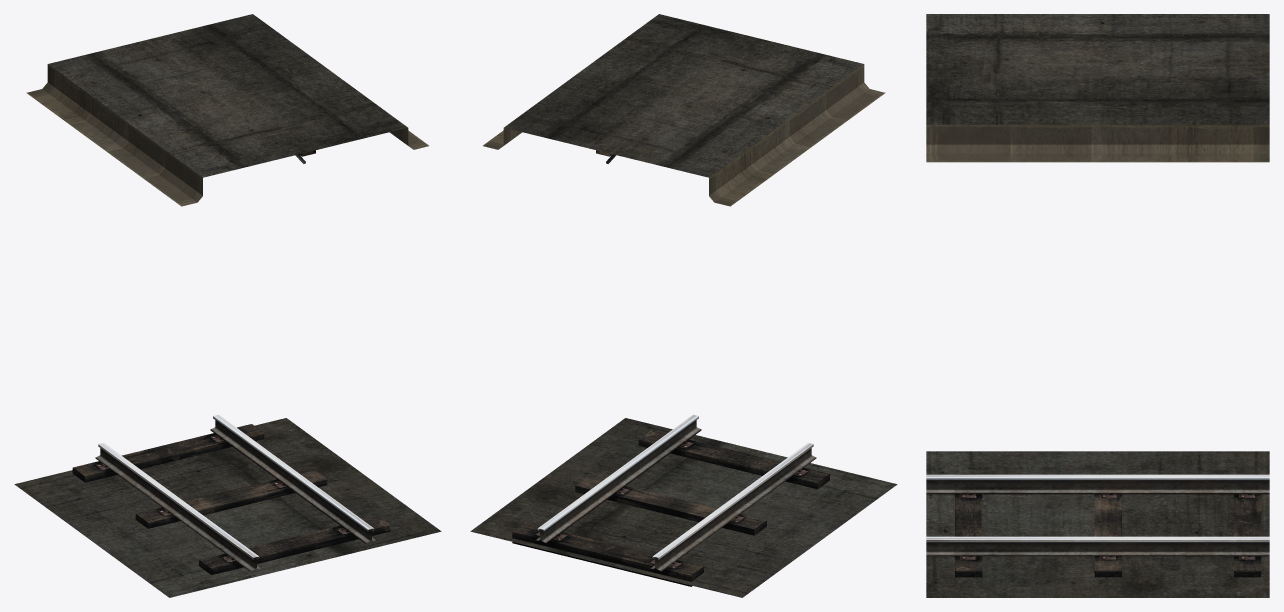
File: TunnelMidB.fbx
3 views of the same model, side by side, from view 1: azimuth 30°, elevation 25°; view 2: azimuth 150°, elevation 25°; view 3: azimuth 270°, elevation 25° (orthographic). The views are drawn at different scales.
Parts seen in each view (by area): view 1: TunnelMidB; view 2: TunnelMidB; view 3: TunnelMidB.
Boxes of the visible parts, <box> form: TunnelMidB: <box>14,14,441,597</box>; TunnelMidB: <box>470,14,897,597</box>; TunnelMidB: <box>926,14,1269,597</box>.
Size of the model in its own units: 380 by 556 by 375.
